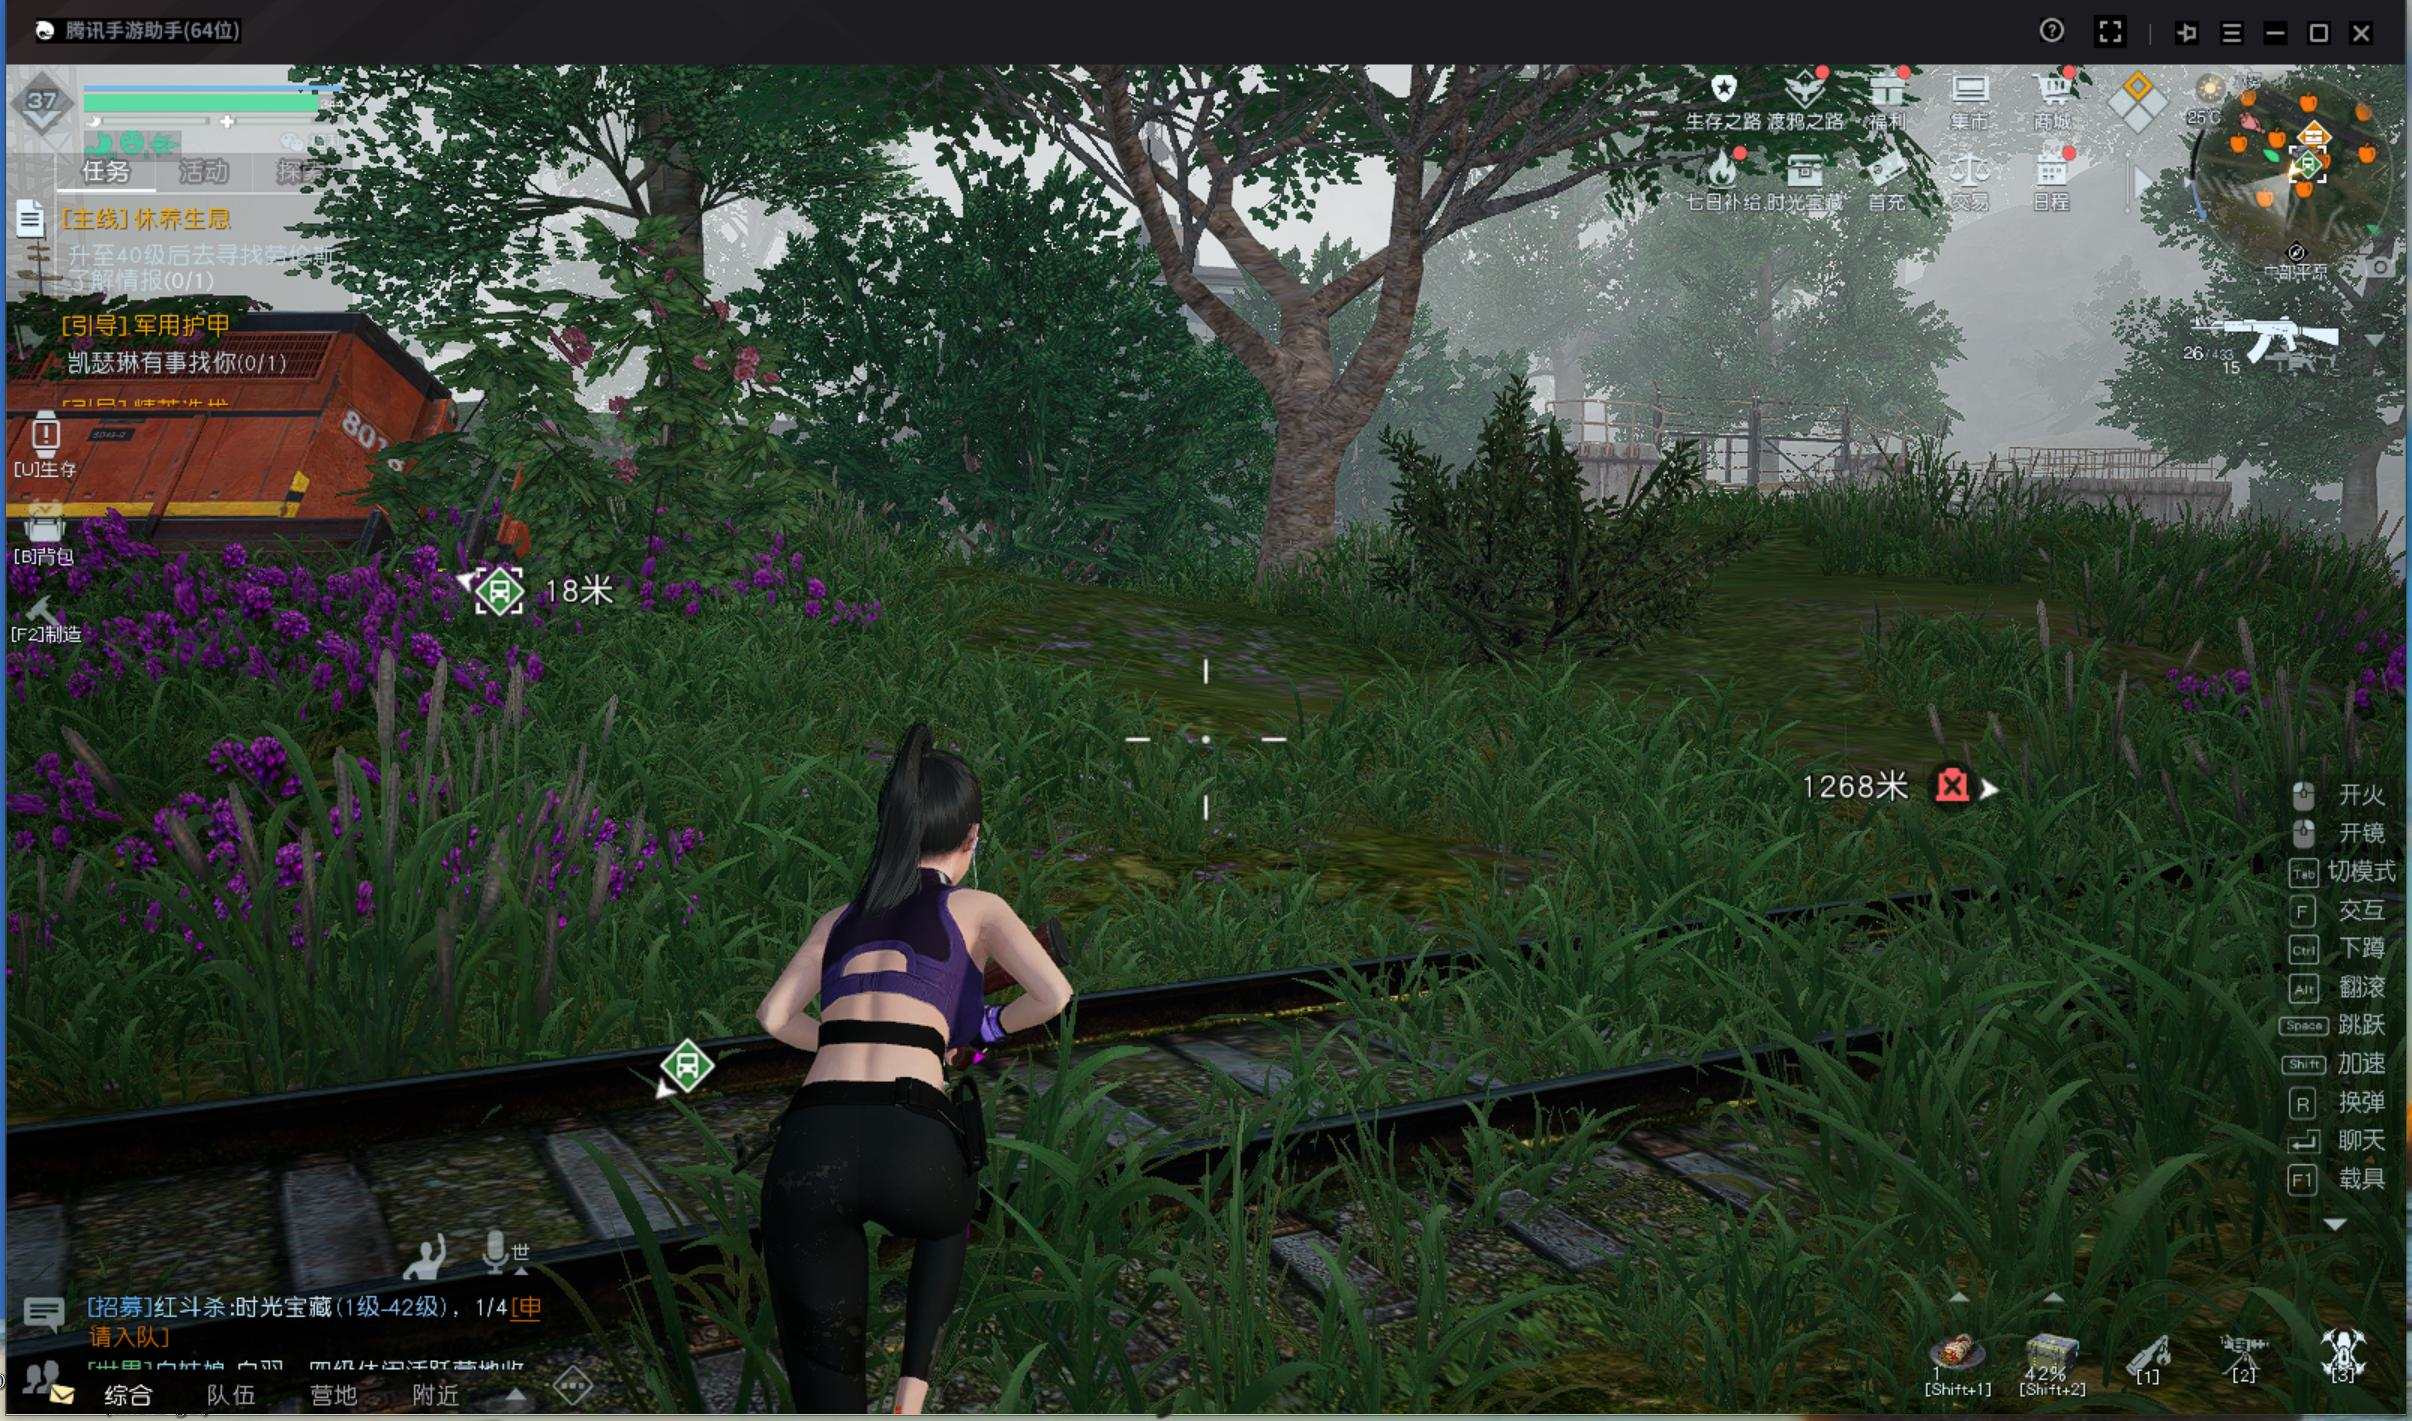tree: (1240, 343, 1363, 616)
